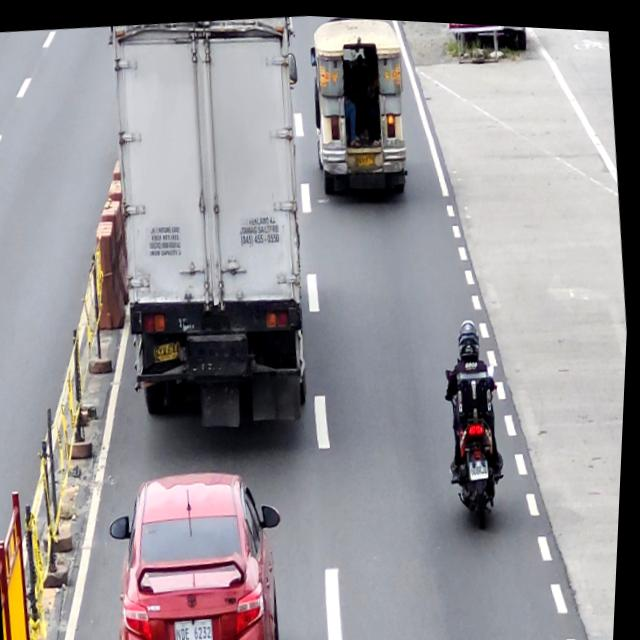Car: (106, 459, 302, 640)
Jeep: (301, 13, 418, 199)
License-Plate: (177, 618, 220, 640), (152, 337, 185, 362), (354, 149, 377, 169), (473, 455, 493, 475)
Motorcycle: (442, 357, 513, 527)
Truck: (97, 6, 337, 435)
